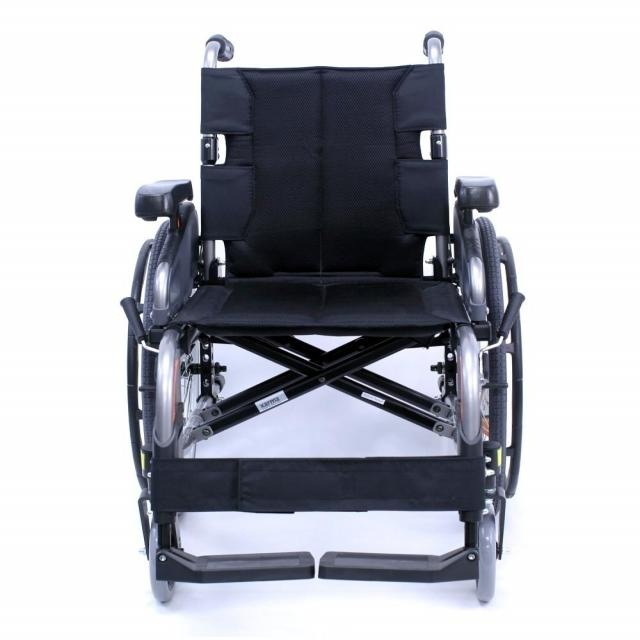wheelchair: (103, 27, 542, 638)
